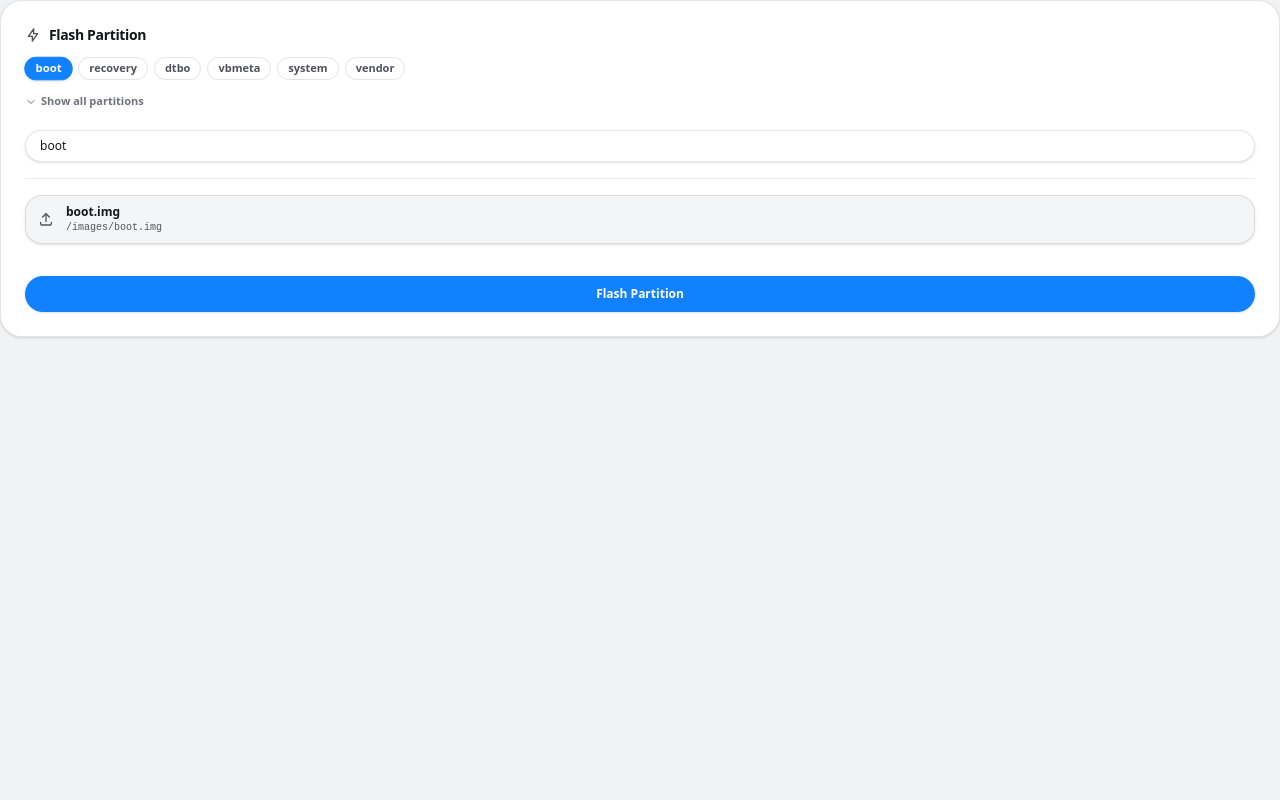
Scenario: PartitionFlashCard destructive confirmation › invalidates consent when the image changes while the dialog is open
Step 1. Click the button "Flash Partition" → (640, 294), box top-left (25, 276), bottom-right (1255, 312)
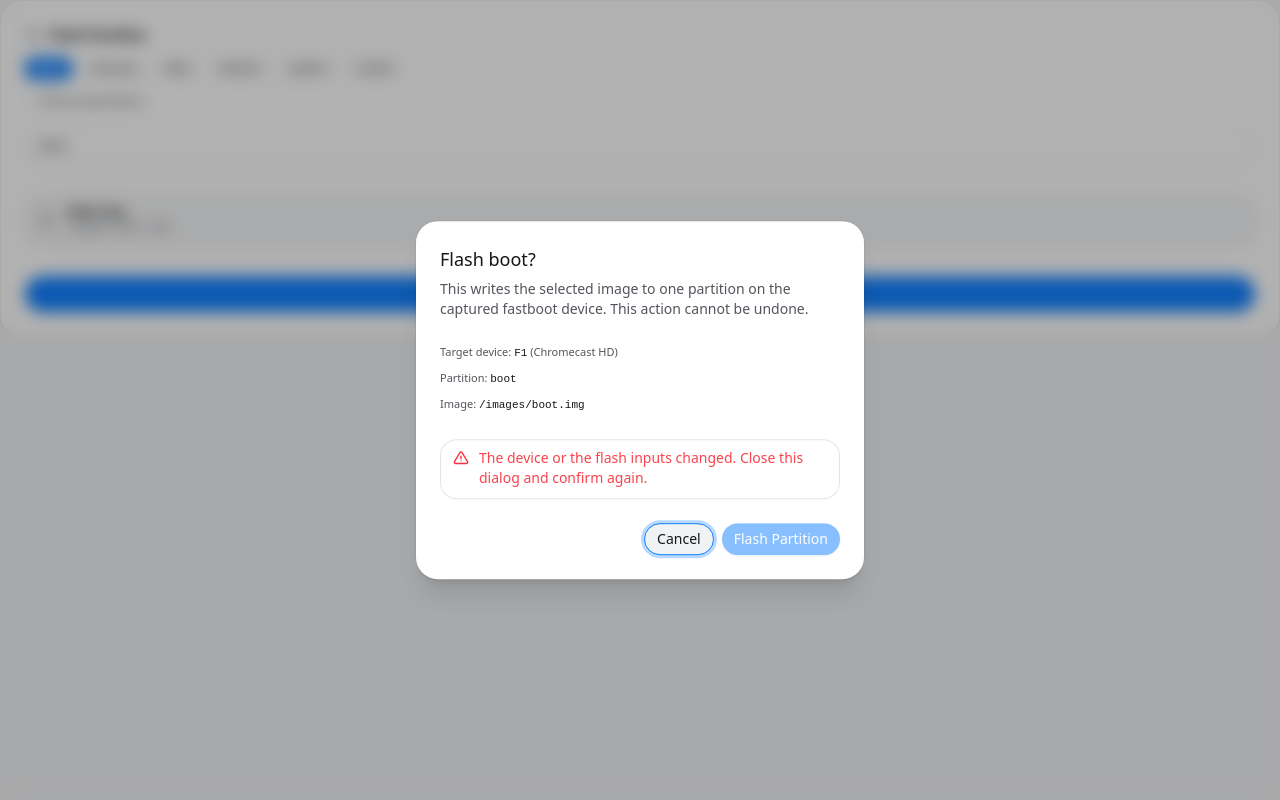
Expected: the text "F1" is shown, top-left (514, 347), bottom-right (527, 359)
Expected: the text with test id "partition-confirm-stale" is shown, top-left (479, 448), bottom-right (827, 488)
